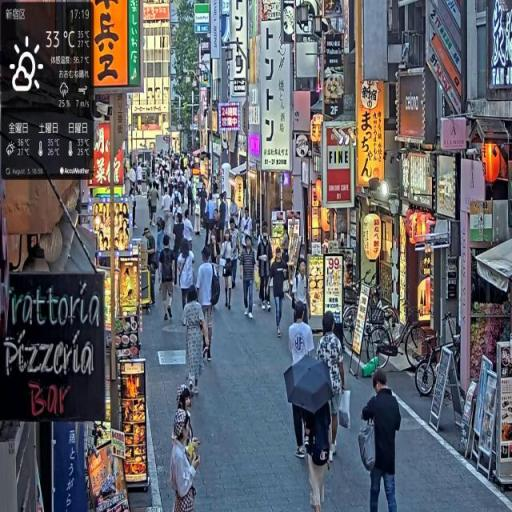person: (360, 366, 403, 512), (287, 300, 317, 462), (316, 314, 347, 463), (303, 405, 335, 512), (183, 285, 210, 401), (196, 247, 221, 363), (269, 248, 289, 339), (158, 235, 177, 328), (241, 235, 260, 321), (257, 225, 274, 310), (178, 241, 196, 320), (292, 260, 311, 329), (221, 231, 236, 313)
